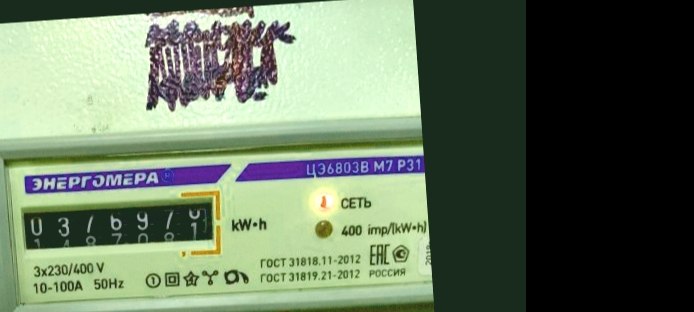0: (28, 212, 43, 235)
1: (186, 219, 200, 239)
3: (55, 213, 71, 236)
6: (106, 206, 123, 230)
7: (80, 209, 96, 233), (160, 205, 176, 229)
9: (132, 206, 149, 230)
screen: (11, 183, 226, 270)
